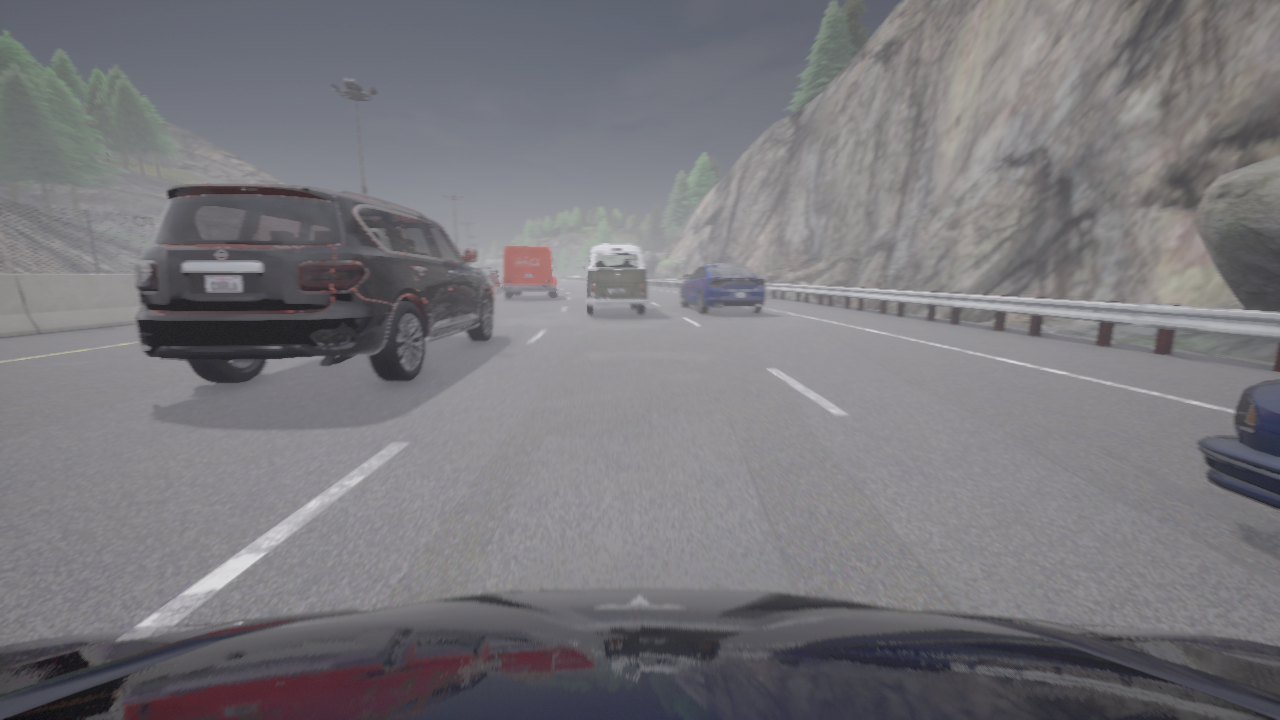cyclist: (0, 588, 1279, 719), (135, 184, 494, 383), (1197, 380, 1279, 509), (582, 244, 647, 314), (681, 263, 765, 313), (502, 246, 557, 298), (478, 267, 499, 291)
